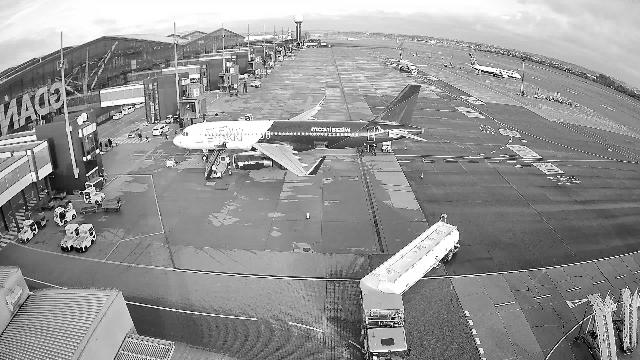Aircraft: (173, 83, 428, 176), (469, 53, 522, 79), (383, 51, 427, 70)
Airport_Tractor: (73, 223, 97, 252), (60, 223, 80, 252), (18, 220, 39, 244), (54, 207, 77, 226), (84, 186, 105, 204), (238, 114, 254, 121), (250, 80, 261, 88)
Baggage_Trolley: (101, 197, 121, 211), (85, 176, 104, 190), (41, 196, 56, 210), (32, 215, 46, 229), (80, 205, 97, 214), (52, 190, 66, 200), (58, 200, 70, 209)
Conveyor_Belt: (204, 145, 230, 179), (205, 106, 222, 116)
Fuel_Tuck: (360, 214, 459, 360)
Ground_Crew: (226, 156, 231, 168), (212, 164, 217, 174), (69, 202, 74, 208)
Passengers: (163, 132, 170, 140), (99, 141, 104, 150), (108, 139, 112, 149), (138, 132, 142, 141), (145, 135, 150, 142), (104, 143, 108, 149), (175, 129, 178, 135)
Pushback_Tug: (412, 70, 418, 75)
